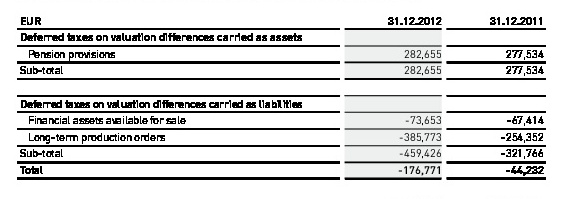table: (0, 0, 565, 199)
